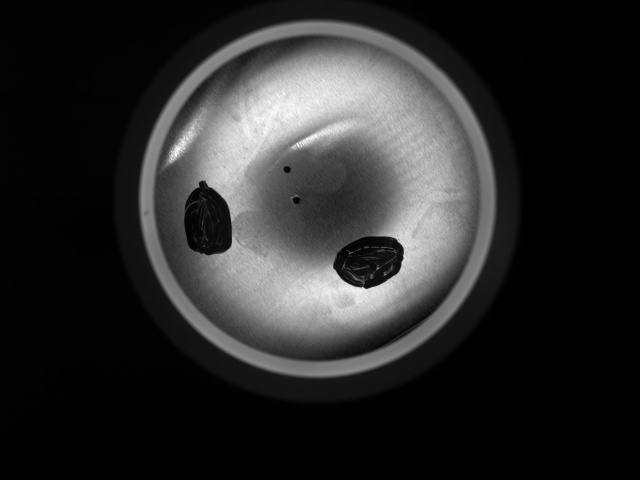zang_wu: (330, 234, 409, 290), (180, 179, 235, 256)
zhen_kong: (280, 160, 295, 174), (291, 191, 302, 208)
